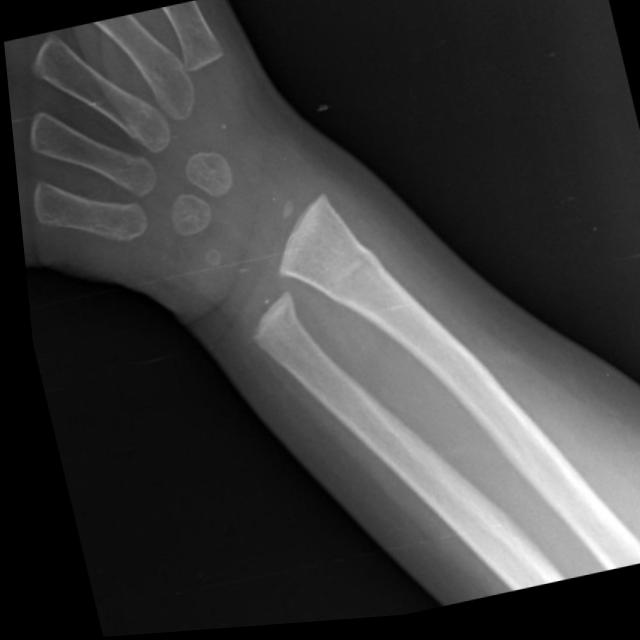fracture: (309, 252, 377, 310)
